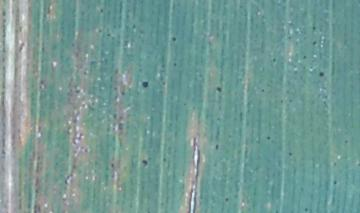tarspot: (140, 159, 150, 169), (37, 77, 47, 87), (17, 41, 26, 52), (215, 85, 223, 94), (141, 80, 149, 89), (317, 70, 325, 78), (72, 88, 81, 95), (270, 56, 277, 64), (171, 61, 179, 68), (109, 161, 116, 169), (214, 142, 220, 151), (131, 22, 137, 31), (98, 7, 105, 14), (311, 39, 318, 46), (301, 53, 308, 60), (105, 31, 112, 38), (223, 195, 230, 202), (160, 80, 167, 87), (170, 35, 176, 43), (287, 150, 293, 158), (258, 87, 266, 93), (265, 134, 272, 140), (332, 178, 338, 185), (302, 206, 308, 213), (278, 97, 284, 104), (119, 90, 126, 96), (342, 138, 350, 143), (82, 70, 88, 76), (311, 24, 316, 31)
